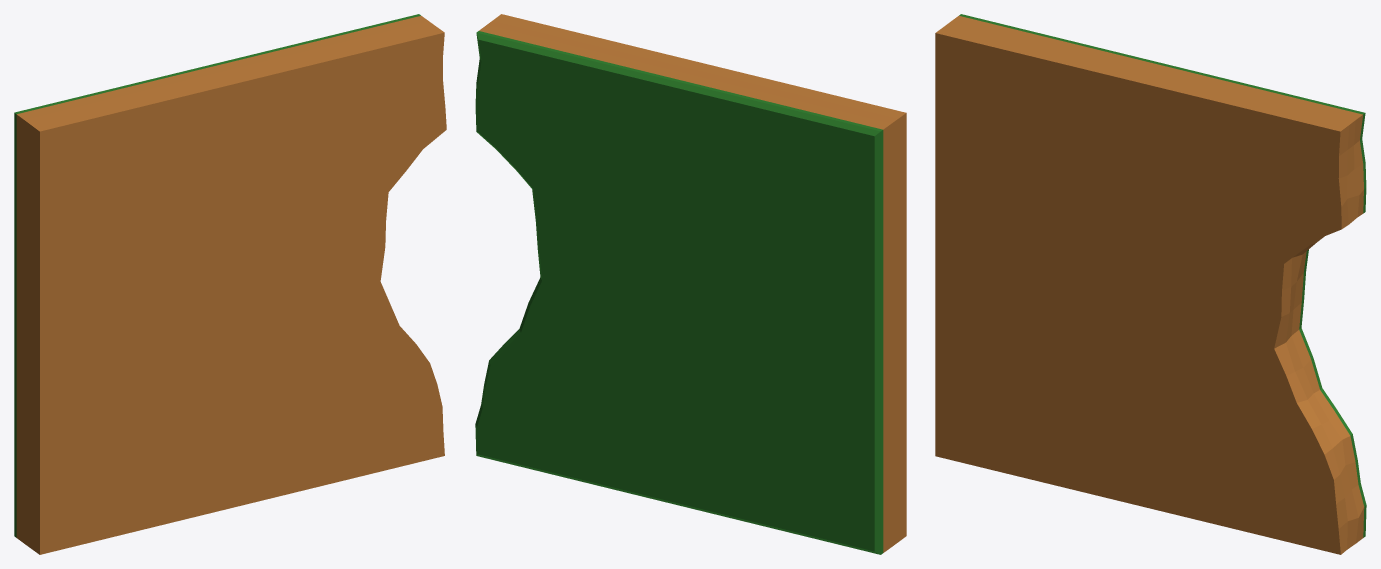
The model's file is side1v1.fbx.
The picture shows the model from 3 angles, left to right: view 1: azimuth 30°, elevation 25°; view 2: azimuth 150°, elevation 25°; view 3: azimuth 330°, elevation 25°; orthographic projection.
Parts seen in each view (by area): view 1: side1v1; view 2: side1v1; view 3: side1v1.
Boxes of the visible parts, left/top/right/bottom form: side1v1: left=14, top=14, right=446, bottom=554; side1v1: left=475, top=14, right=906, bottom=554; side1v1: left=935, top=14, right=1366, bottom=554.
Size of the model in its own units: 2010 by 2000 by 248.
